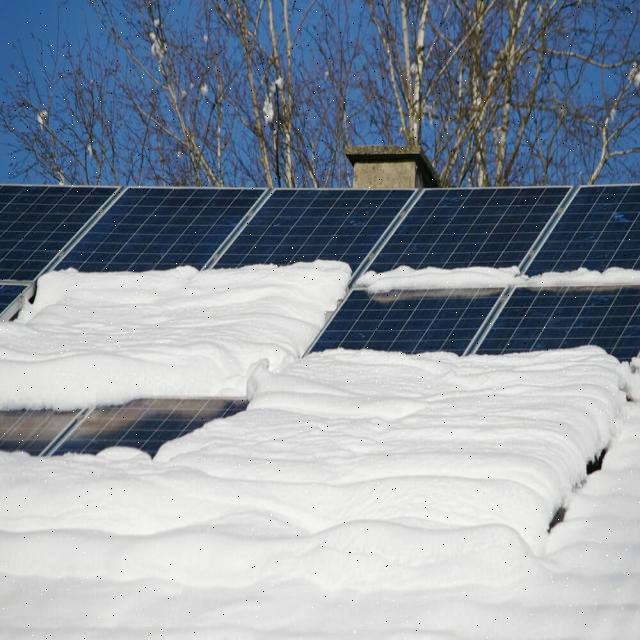snow covered: (329, 190, 639, 350)
